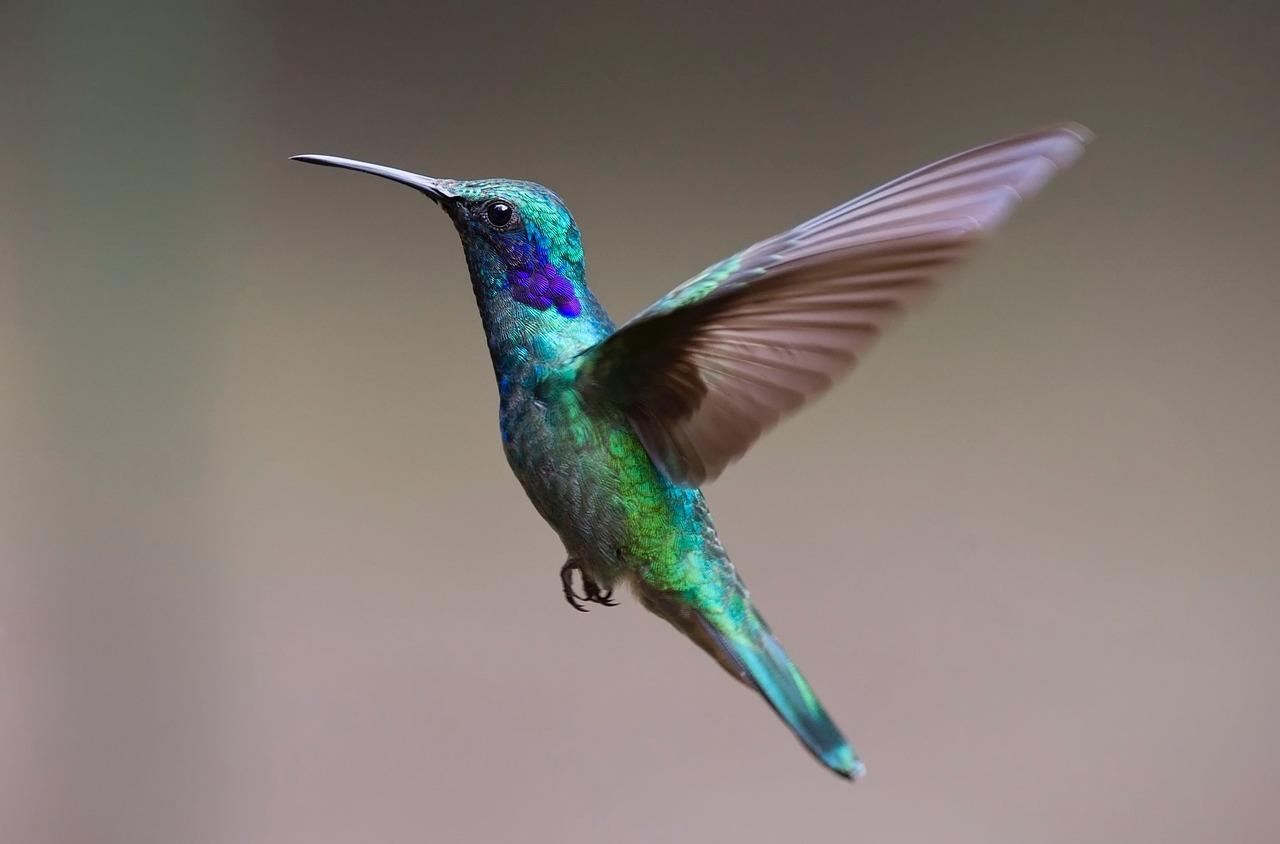bird: (293, 126, 1089, 779)
